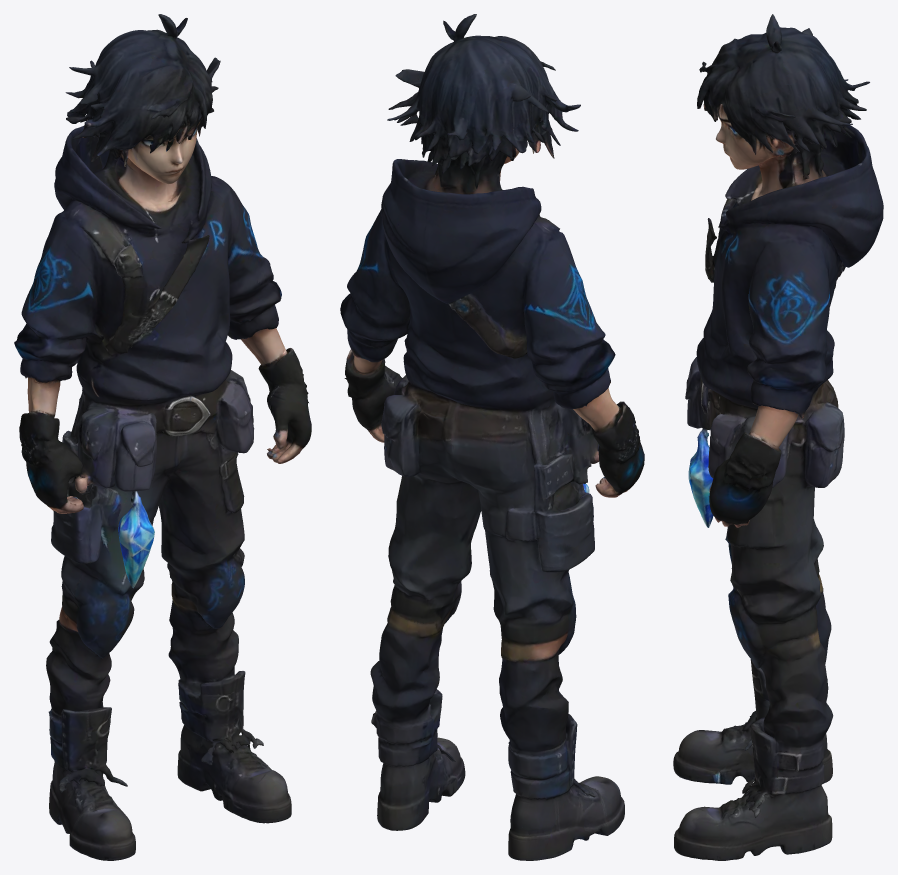
File: anime-style-compressed.glb
The picture shows the model from 3 angles, left to right: view 1: azimuth 30°, elevation 25°; view 2: azimuth 150°, elevation 25°; view 3: azimuth 270°, elevation 25°; orthographic projection. The views are drawn at different scales.
Size of the model in its own units: 0.7247 by 1.98 by 0.4731.
Materials: 1 (1 with a texture image).
